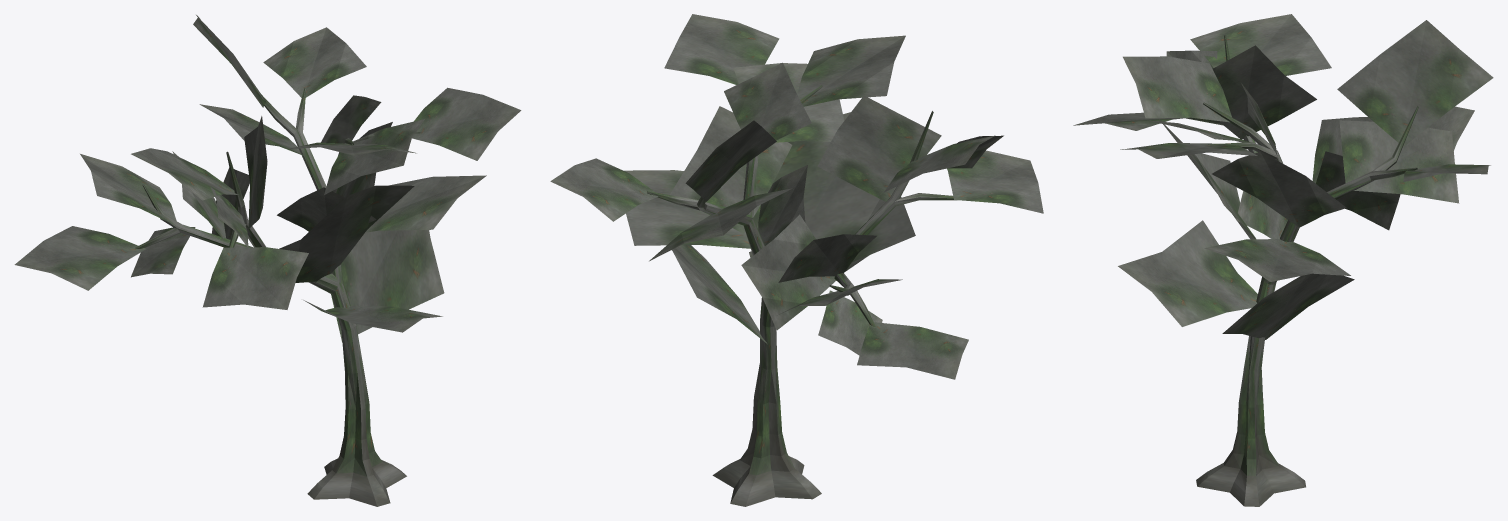
File: young_oak_bare.dae
3 views of the same model, side by side, from view 1: azimuth 30°, elevation 25°; view 2: azimuth 150°, elevation 25°; view 3: azimuth 270°, elevation 25° (orthographic). The views are drawn at different scales.
Visible parts, largest first — view 1: young_oak_bare; view 2: young_oak_bare; view 3: young_oak_bare.
Boxes of the visible parts, box(x1,y1,x2,y2) form: young_oak_bare: box(14, 15, 521, 506); young_oak_bare: box(550, 14, 1043, 506); young_oak_bare: box(1073, 14, 1493, 506).
Size of the model in its own units: 61 by 55.51 by 62.09.
